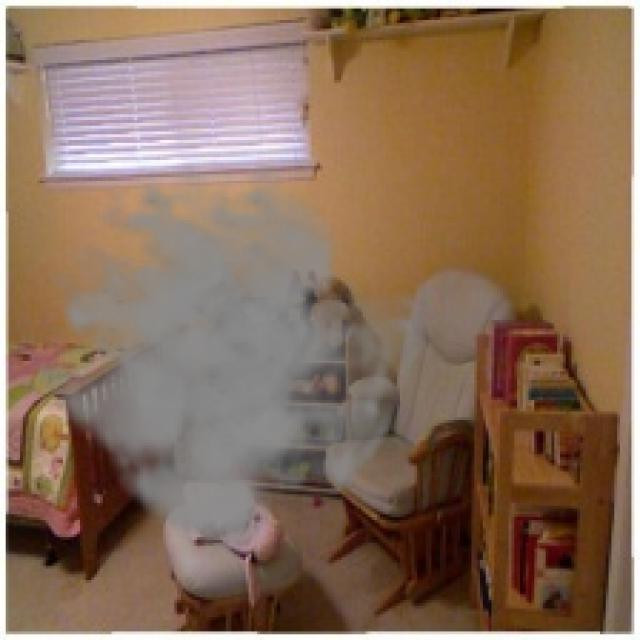smoke: (23, 160, 434, 557)
